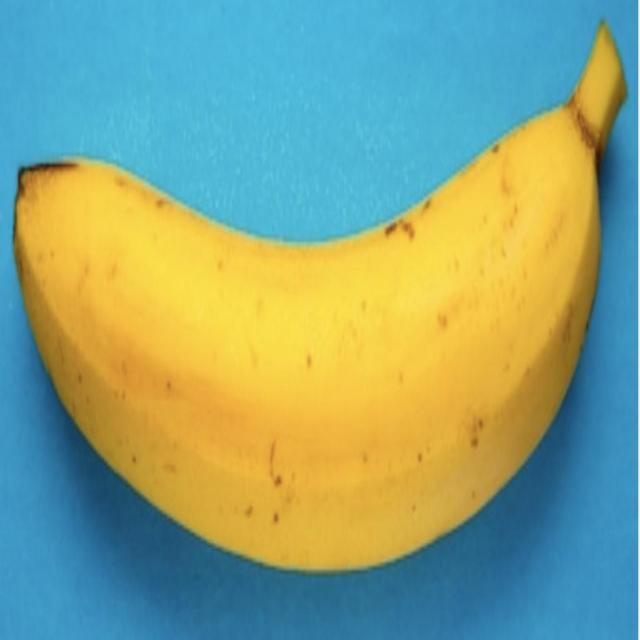banana: (0, 66, 639, 574)
